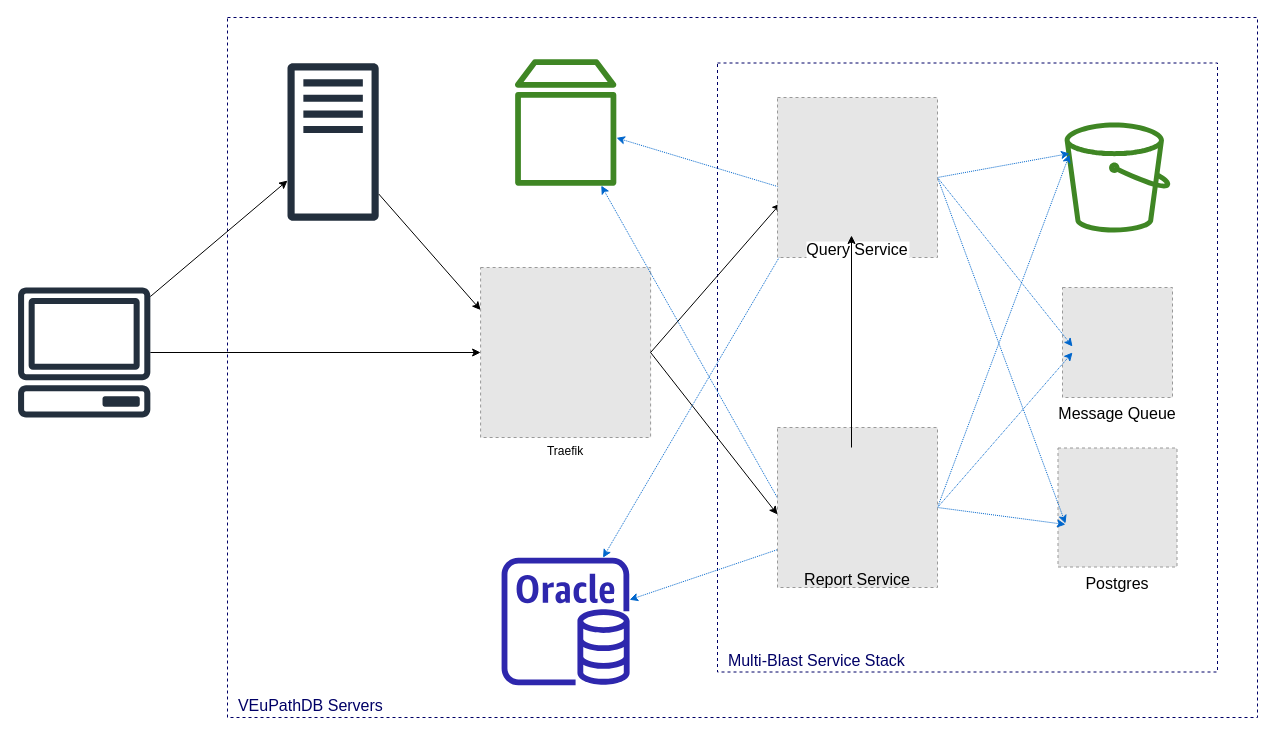
Some shapes in this 1275 by 735 pixel diagram are drawn without their labels. Grey dashed boxes stand in for pictures. The shapes that lost their labels are listed below. From the top down, each one's centre as x and y in pixels, then its label:
At (332,141): "WDK".
At (565,122): "BLAST+ Databases".
At (1117,177): "S3".
At (83,352): "Multi-Blast Client".
